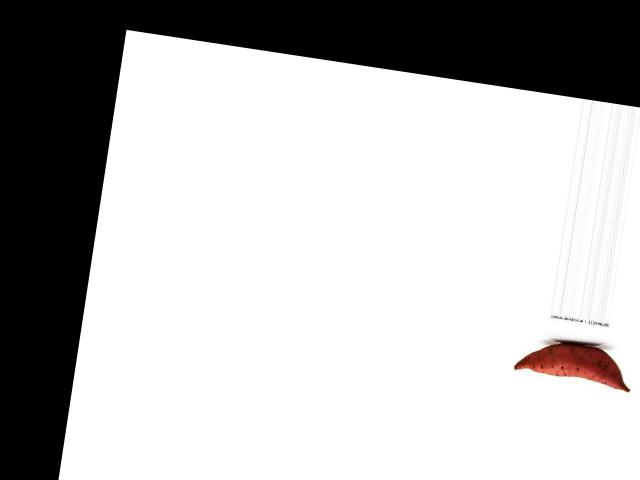sweet_potato: (511, 333, 636, 398)
